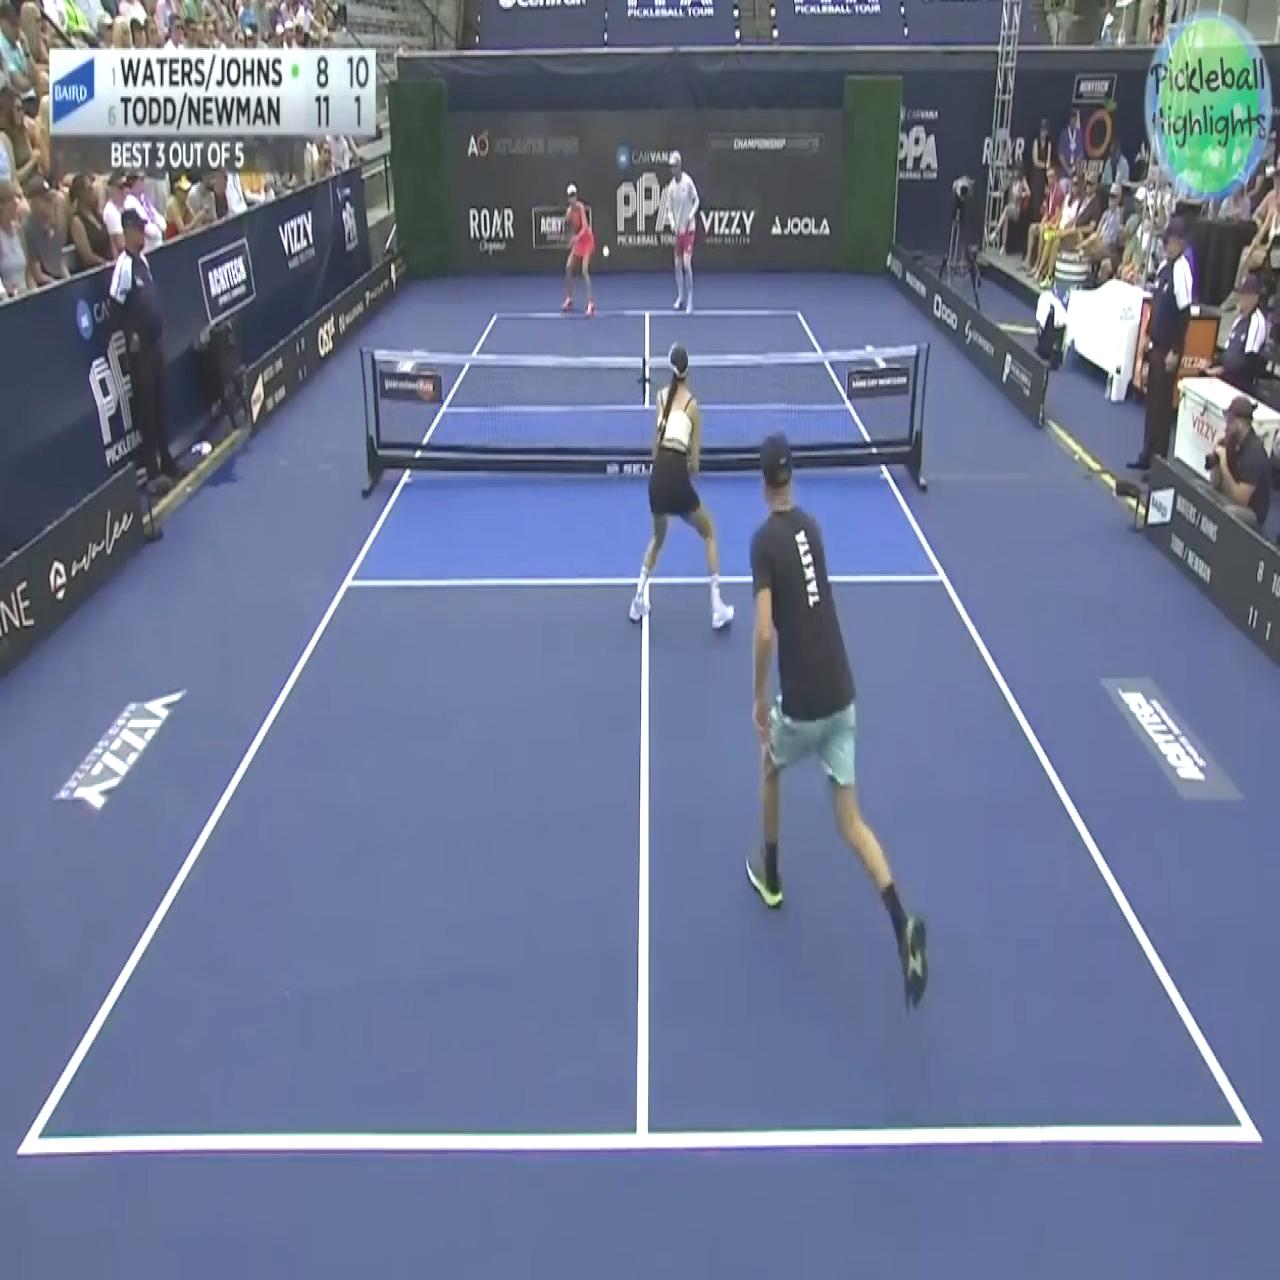Pickleball: (598, 241, 610, 261)
